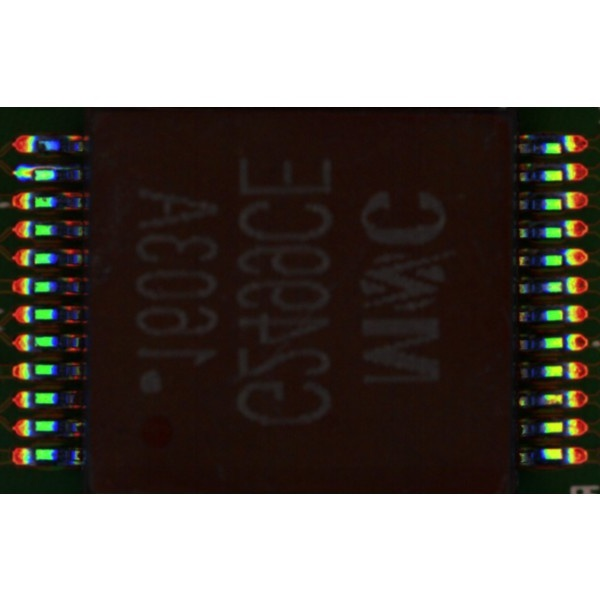Bad_podu: (26, 170, 41, 178)
Bad_qiaojiao: (35, 165, 72, 171)
